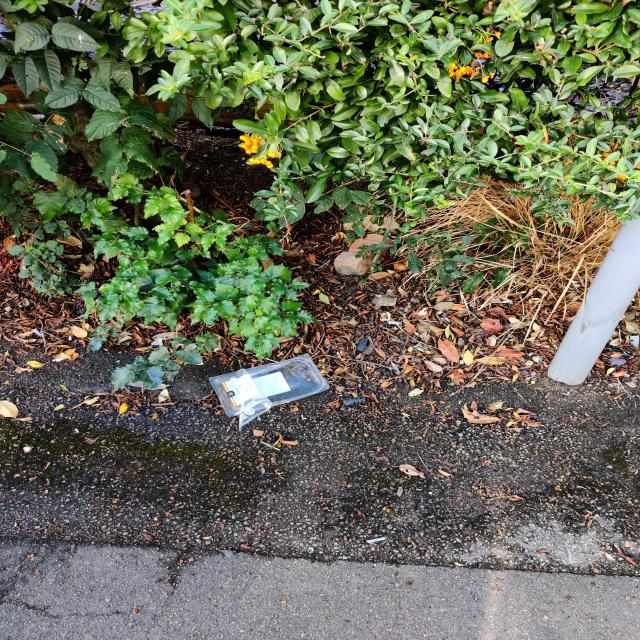litter: (205, 352, 334, 435)
